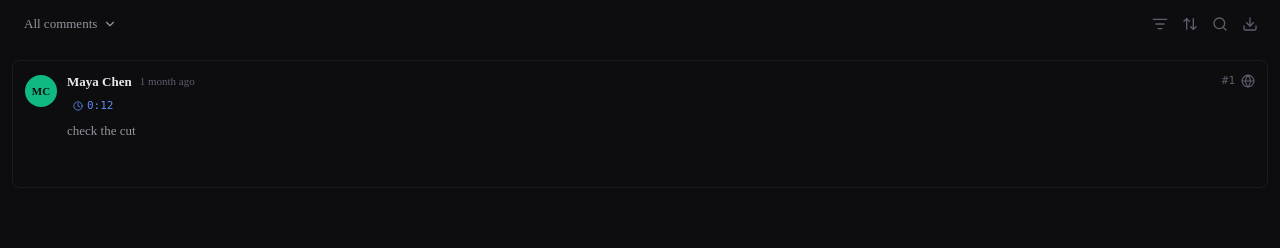
how long an export refusal stays on screen › goes away when the export menu is opened again
What coordinates should you click on to do the following:
click the button titled "Export comments"
I would click on:
 (1250, 24)
Its box is x1=1236 y1=10 x2=1264 y2=38.
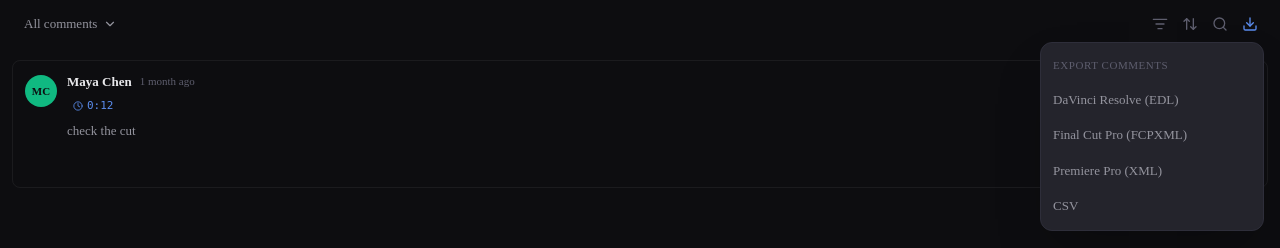
What coordinates should you click on to do the following:
click the button "DaVinci Resolve (EDL)"
I would click on:
 (1152, 99)
Its box is x1=1041 y1=82 x2=1263 y2=117.
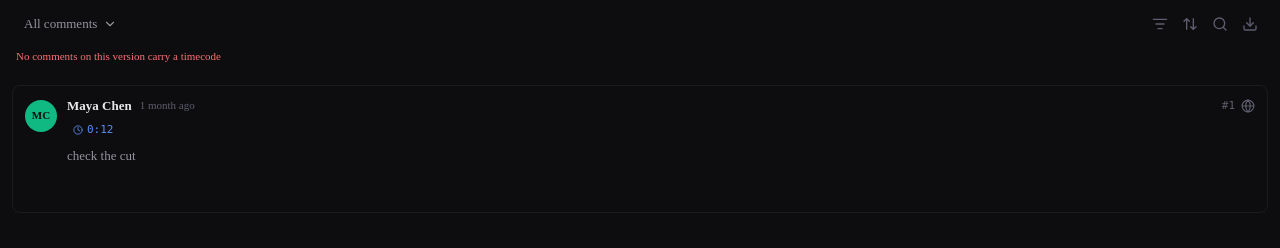
Now the text "No comments on this version carry a timecode" is shown, box x1=16 y1=50 x2=221 y2=62
What coordinates should you click on to do the following:
click the button titled "Export comments"
I would click on:
 (1250, 24)
Its box is x1=1236 y1=10 x2=1264 y2=38.
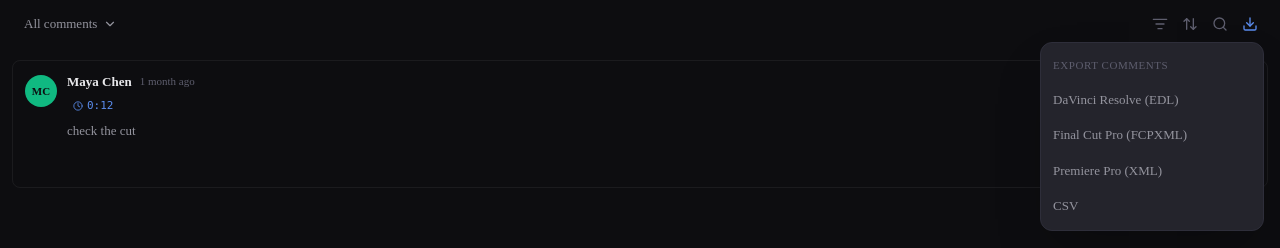
Now the text "No comments on this version carry a timecode" is gone
